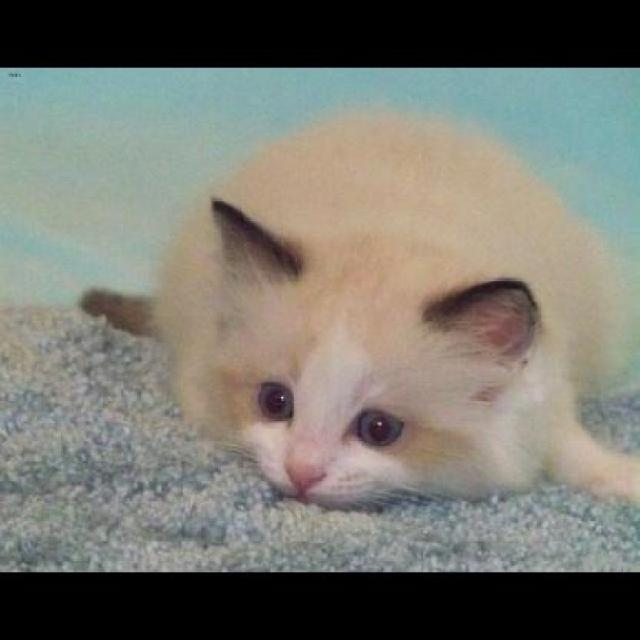unauthorized: (77, 103, 638, 515)
